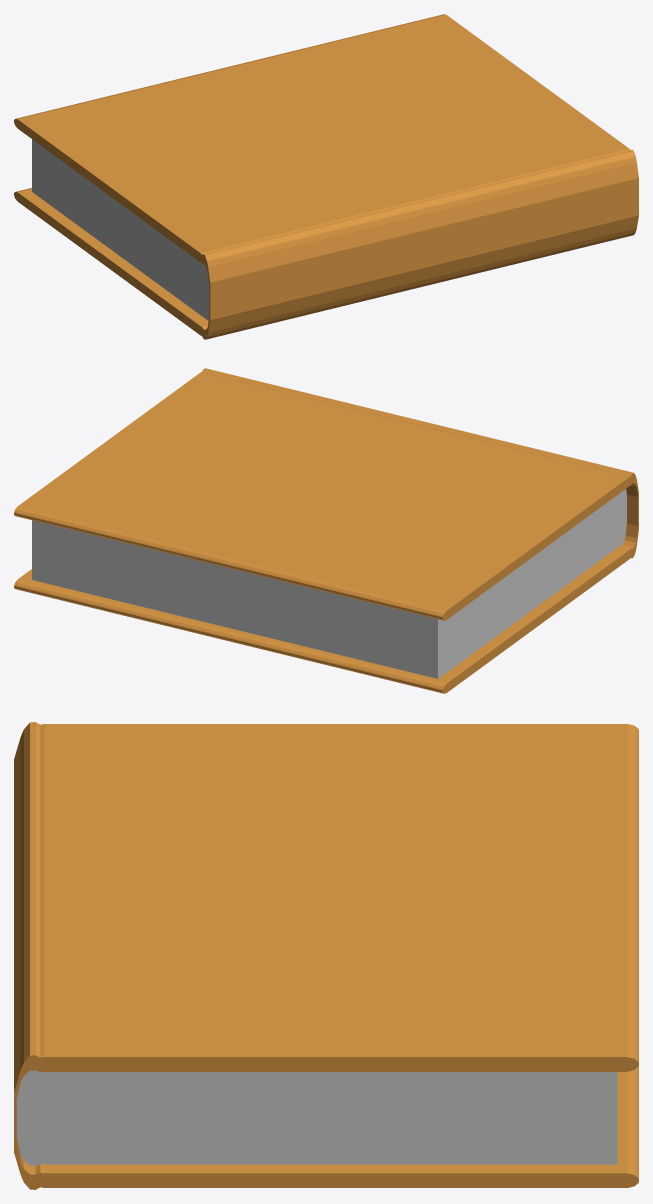
The model's file is book_orange.fbx.
The picture shows the model from 3 angles, top to bottom: view 1: azimuth 30°, elevation 25°; view 2: azimuth 150°, elevation 25°; view 3: azimuth 270°, elevation 25°; orthographic projection. The views are drawn at different scales.
Visible parts, largest first — view 1: book; view 2: book; view 3: book.
Boxes of the visible parts, x1=… form: book: x1=14, y1=14, x2=638, y2=339; book: x1=14, y1=368, x2=638, y2=693; book: x1=14, y1=722, x2=638, y2=1189.
Bounding box in the file's own units: 21.11 × 3.98 × 16.74.
